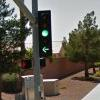Traffic light: (29, 6, 65, 63)
